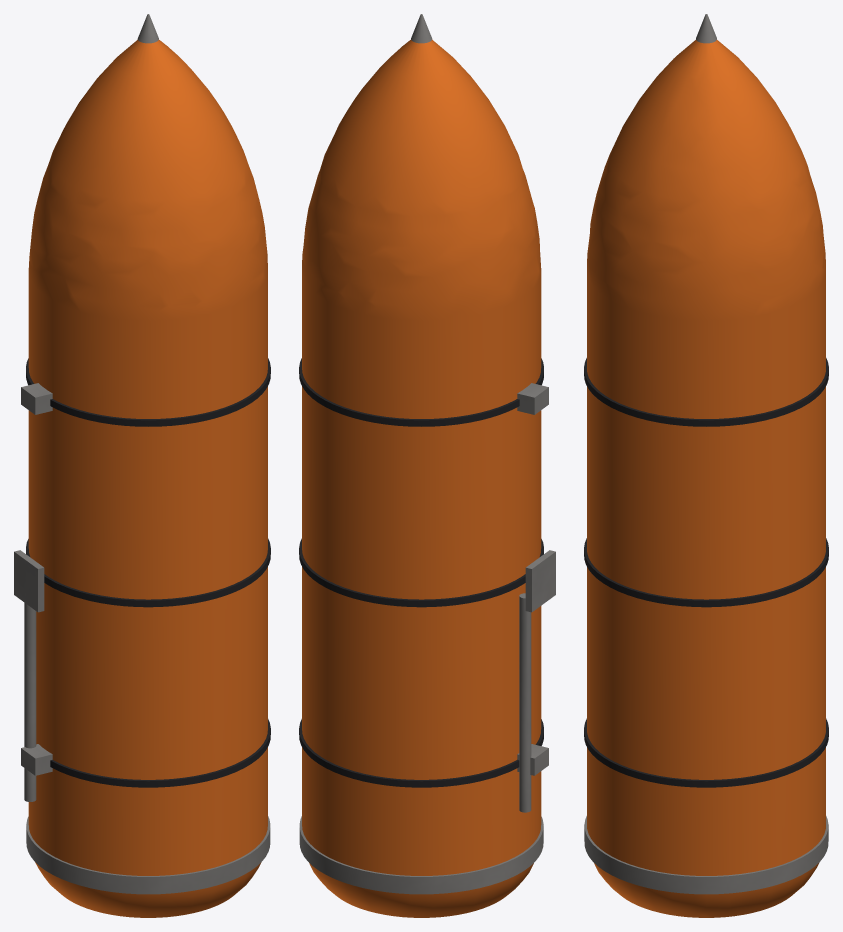
File: tank07_drop_tank_s.glb
3 views of the same model, side by side, from view 1: azimuth 30°, elevation 25°; view 2: azimuth 150°, elevation 25°; view 3: azimuth 270°, elevation 25° (orthographic).
Visible parts, largest first — view 1: tank, straps, fittings, aft_ring; view 2: tank, straps, fittings, aft_ring; view 3: tank, straps, aft_ring.
Part boxes in pixels (x1,y1,x2,y2): tank: [28, 39, 267, 917]; straps: [26, 358, 270, 787]; fittings: [14, 383, 52, 801]; aft_ring: [26, 816, 270, 894]; tank: [302, 39, 541, 917]; straps: [299, 358, 543, 787]; fittings: [517, 383, 555, 812]; aft_ring: [299, 816, 543, 894]; tank: [587, 40, 825, 917]; straps: [584, 358, 828, 787]; aft_ring: [584, 816, 828, 894].
Size of the model in its own units: 1.38 by 4.97 by 1.28.
Materials: 3 (1 with a texture image).
